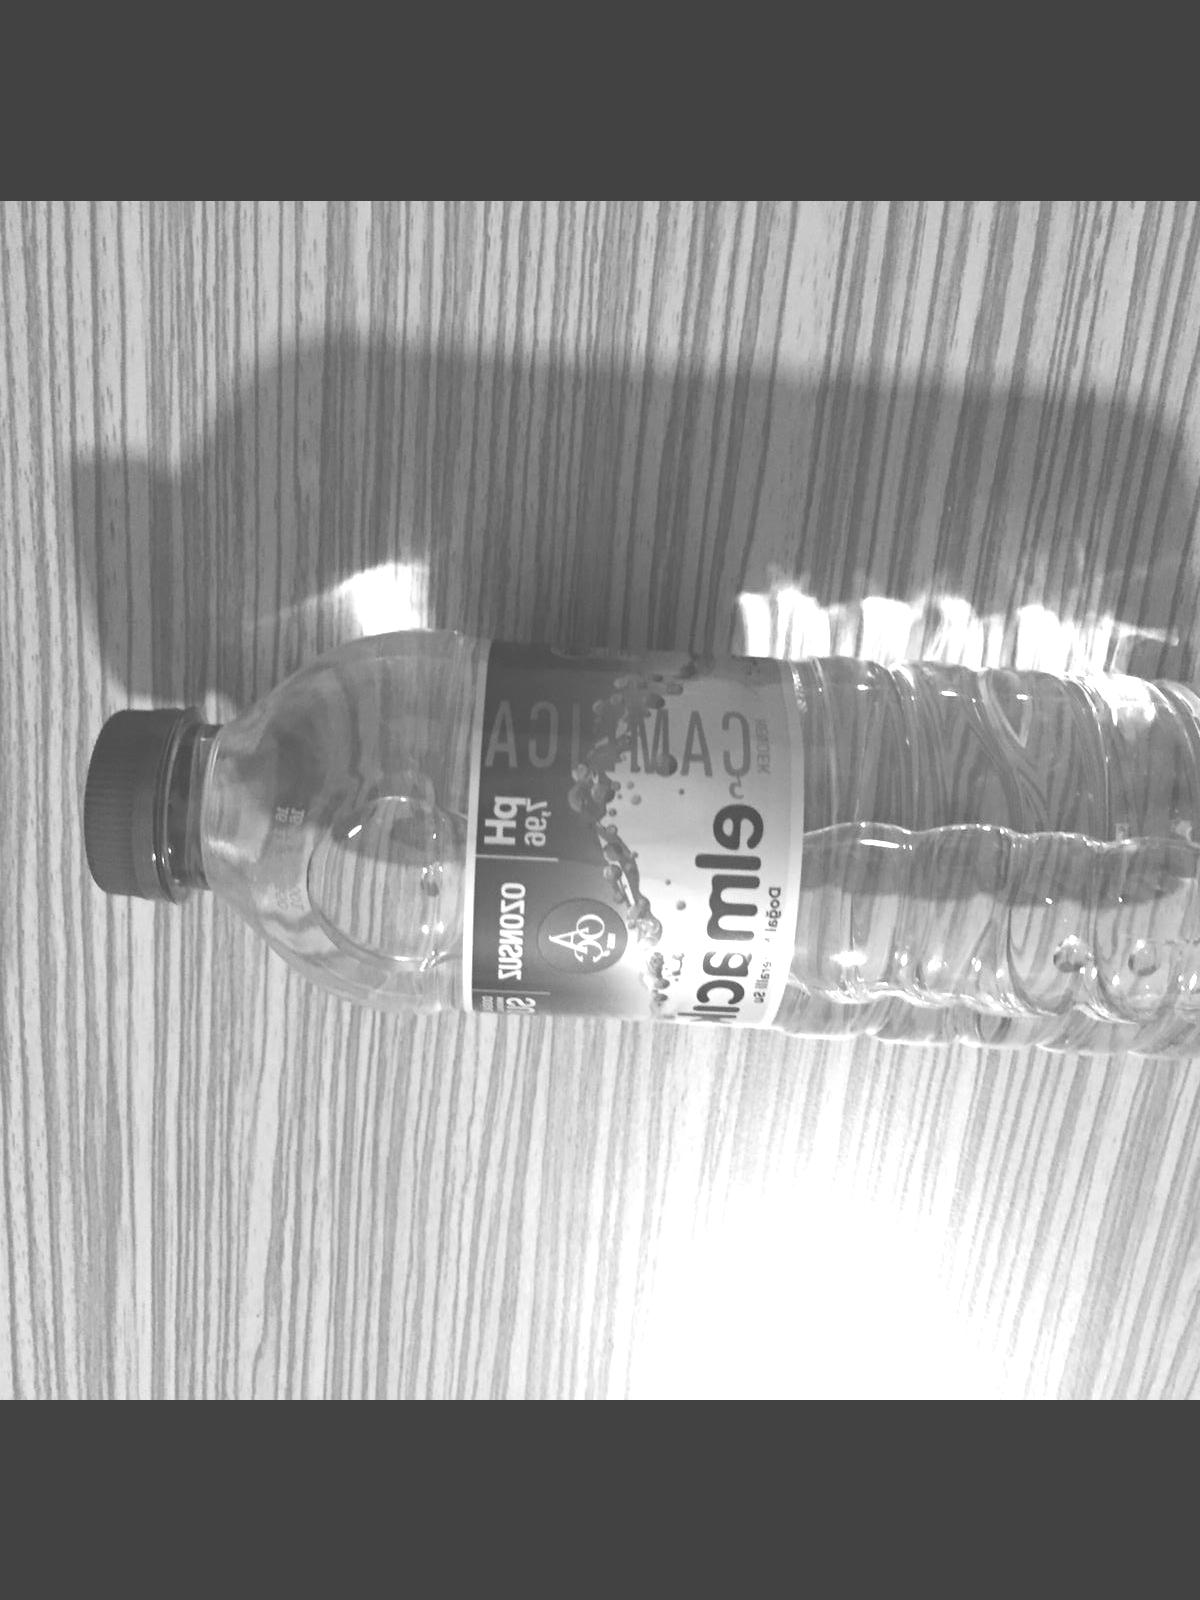bottle: (75, 657, 1200, 1052)
